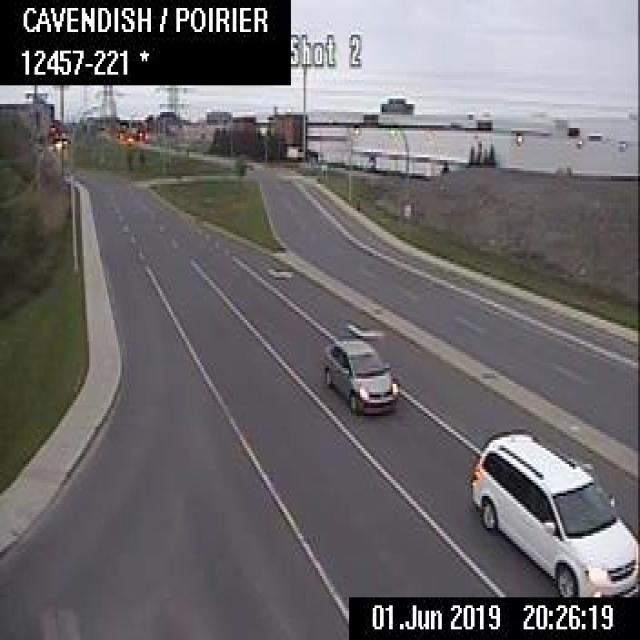vehicle: (467, 424, 638, 595), (323, 335, 398, 413)
